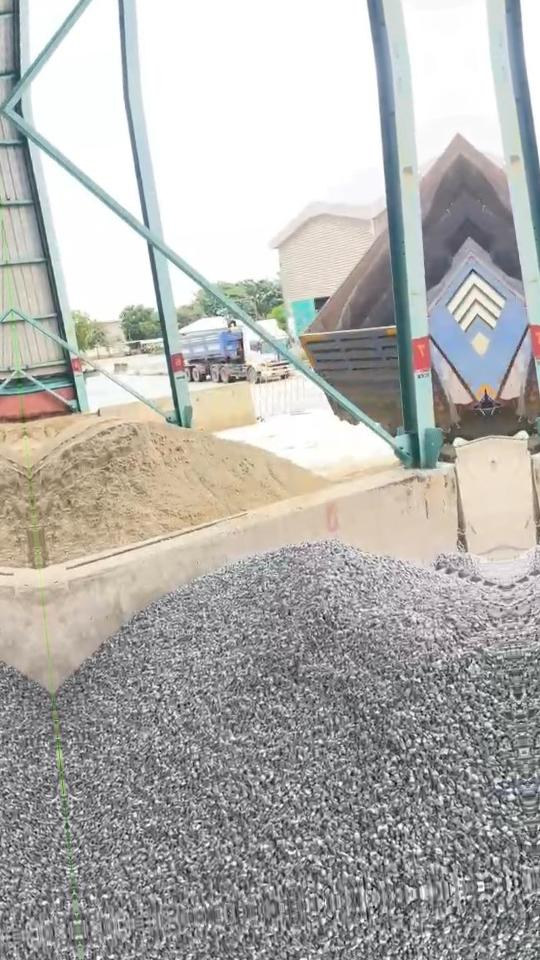gravel: (56, 541, 535, 928), (435, 551, 509, 603)
sand: (30, 417, 327, 565), (26, 414, 97, 465)
